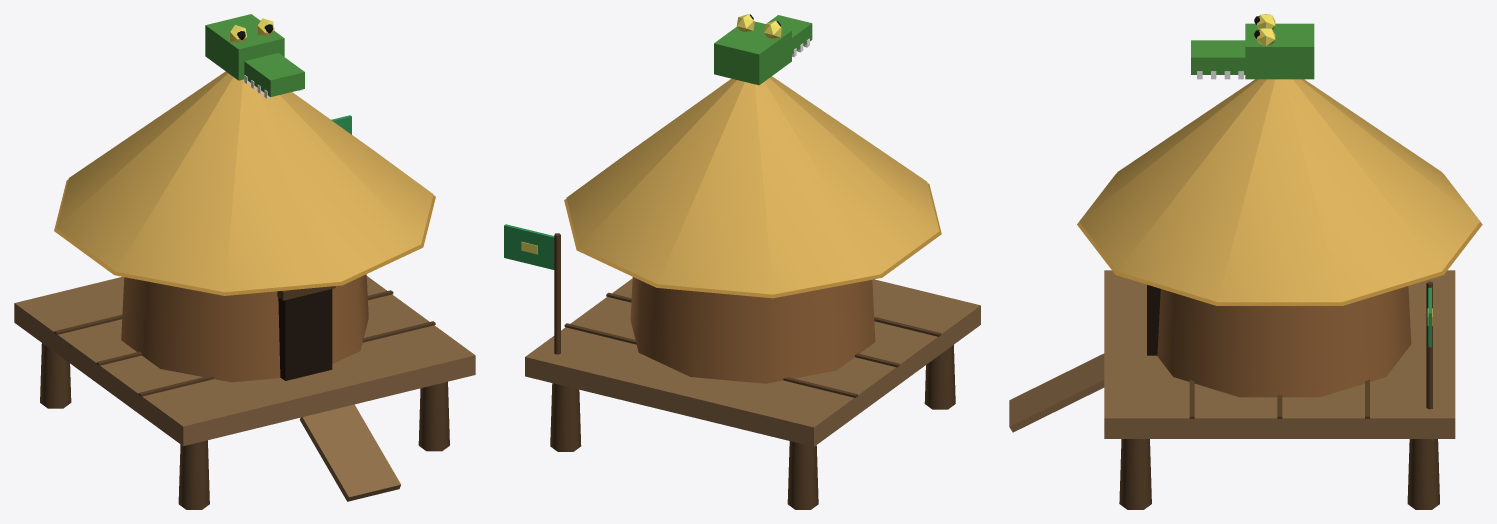
The model's file is level1.glb.
3 renders of one model, left to right at view 1: azimuth 30°, elevation 25°; view 2: azimuth 150°, elevation 25°; view 3: azimuth 270°, elevation 25°, orthographic. The views are drawn at different scales.
Size of the model in its own units: 3.25 by 3.71 by 3.78.
